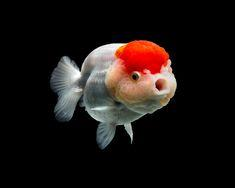goldfish: (43, 40, 189, 152)
